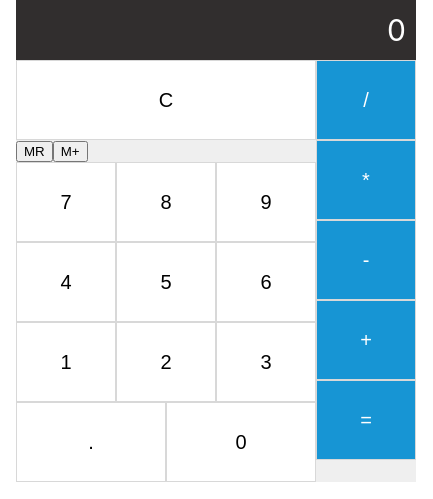
Memory recall displays zero when clicked after entering a number
The width and height of the screenshot is (433, 499).
Step 1. Click the button with test id "number5" → (166, 282), box [116,242,216,322]
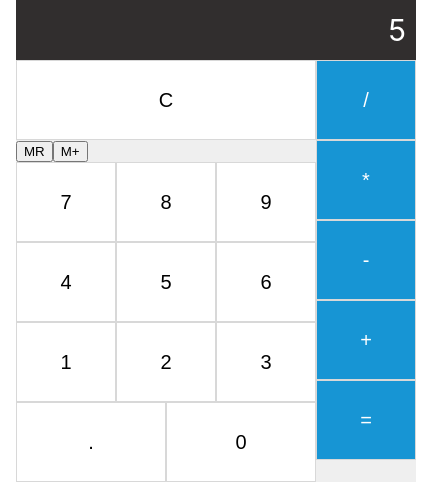
Step 2. Click the button "MR" → (34, 152), box [16,141,53,162]
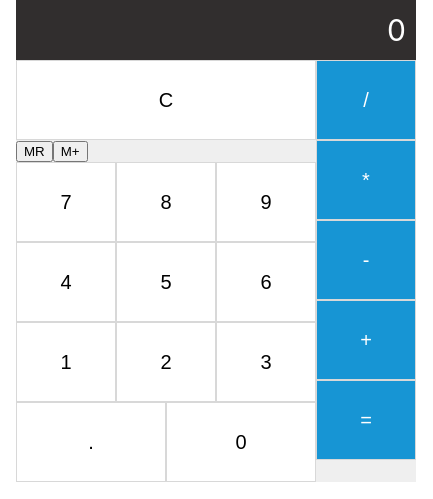
Now the text with test id "calculator-display" reads "0", box [387,12,406,48]
